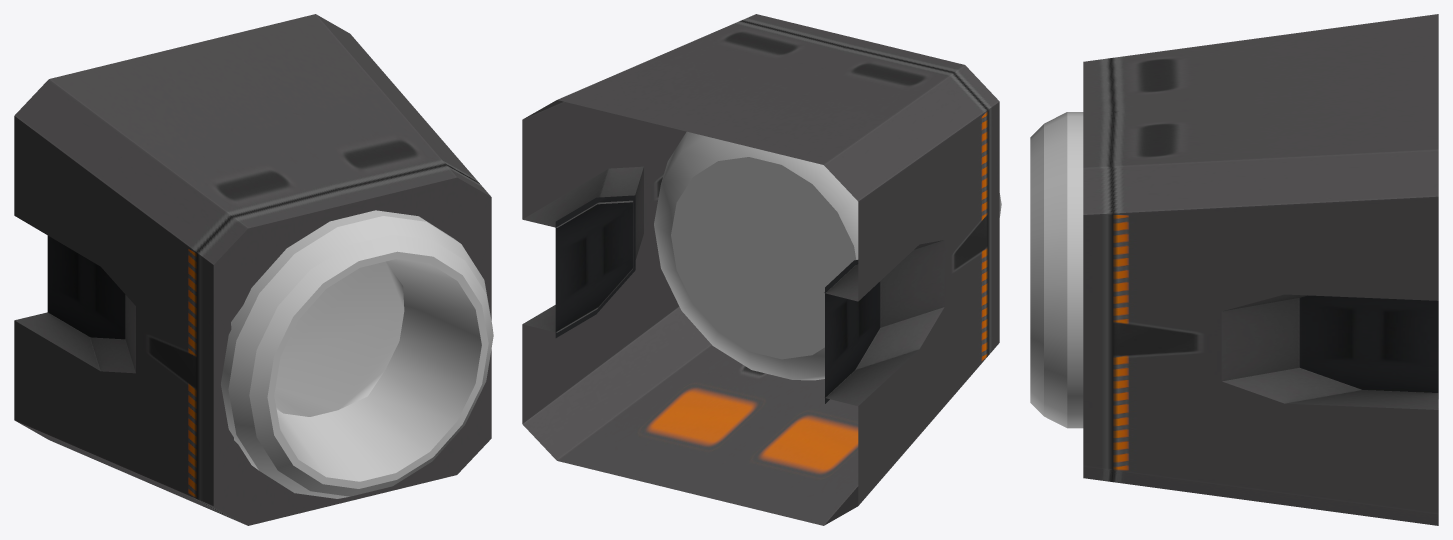
The model's file is TorpedoTube_W_Housing_1.fbx.
The picture shows the model from 3 angles, left to right: view 1: azimuth 30°, elevation 25°; view 2: azimuth 150°, elevation 25°; view 3: azimuth 270°, elevation 25°; orthographic projection. The views are drawn at different scales.
Parts seen in each view (by area): view 1: ARC_Modular_Tube_Housing, ARC_Modular_Tube; view 2: ARC_Modular_Tube_Housing, ARC_Modular_Tube; view 3: ARC_Modular_Tube_Housing, ARC_Modular_Tube.
Part boxes in pixels (bbox=[...]): ARC_Modular_Tube_Housing: bbox=[14, 14, 491, 525]; ARC_Modular_Tube: bbox=[221, 210, 493, 498]; ARC_Modular_Tube_Housing: bbox=[522, 14, 999, 525]; ARC_Modular_Tube: bbox=[654, 131, 1001, 380]; ARC_Modular_Tube_Housing: bbox=[1083, 14, 1438, 525]; ARC_Modular_Tube: bbox=[1030, 112, 1083, 428].
Bounding box in the file's own units: 7.88 × 8.09 × 7.96.
